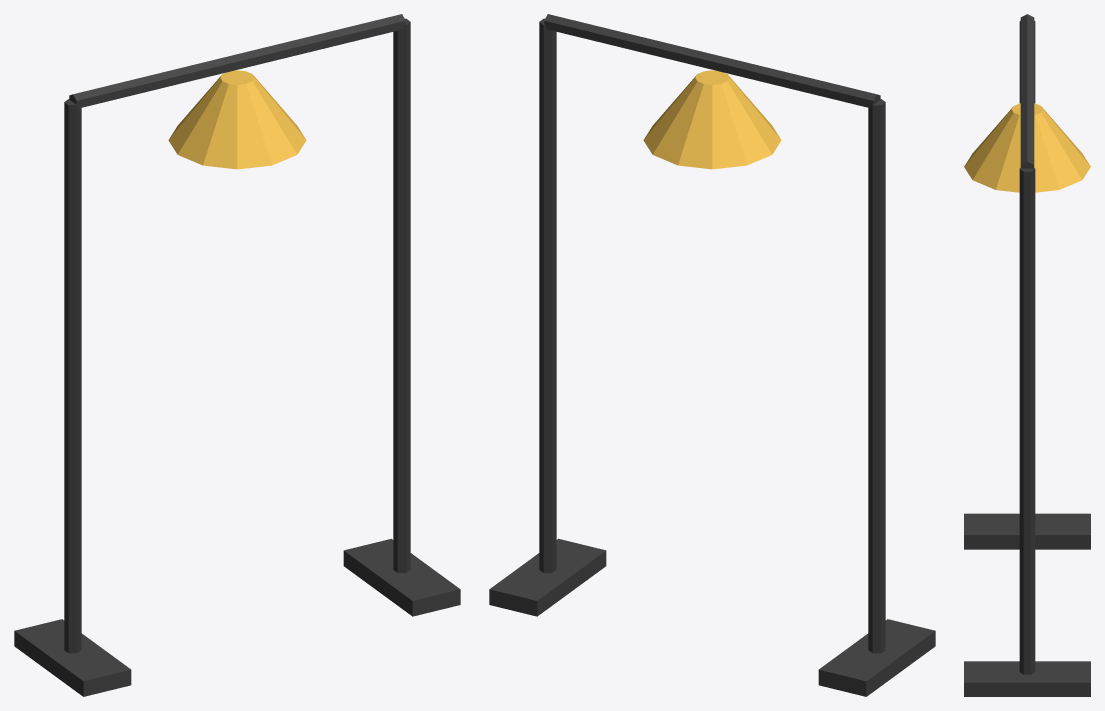
The picture shows the model from 3 angles, left to right: view 1: azimuth 30°, elevation 25°; view 2: azimuth 150°, elevation 25°; view 3: azimuth 270°, elevation 25°; orthographic projection. The views are drawn at different scales.
Visible parts, largest first — view 1: Overhead upright, Overhead upright.001, Pendant shade, Light beam, Light foot, Light foot.001; view 2: Overhead upright, Overhead upright.001, Pendant shade, Light beam, Light foot, Light foot.001; view 3: Overhead upright.001, Pendant shade, Light foot.001, Light foot, Light beam, Overhead upright.
Part boxes in pixels (bbox=[...]): Overhead upright: bbox=[64, 99, 81, 653]; Overhead upright.001: bbox=[393, 18, 410, 572]; Pendant shade: bbox=[168, 70, 306, 169]; Light beam: bbox=[69, 14, 405, 108]; Light foot: bbox=[14, 619, 131, 696]; Light foot.001: bbox=[343, 538, 460, 616]; Overhead upright: bbox=[868, 99, 885, 653]; Overhead upright.001: bbox=[539, 18, 556, 572]; Pendant shade: bbox=[643, 70, 781, 169]; Light beam: bbox=[544, 14, 880, 108]; Light foot: bbox=[818, 619, 935, 696]; Light foot.001: bbox=[489, 538, 606, 616]; Overhead upright.001: bbox=[1019, 168, 1035, 674]; Pendant shade: bbox=[964, 103, 1090, 192]; Light foot.001: bbox=[964, 661, 1090, 696]; Light foot: bbox=[964, 513, 1090, 549]; Light beam: bbox=[1020, 14, 1034, 168]; Overhead upright: bbox=[1019, 20, 1035, 103].
Bounding box in the file's own units: 1.26 × 1.82 × 0.4.
1 material, 1 textured.
